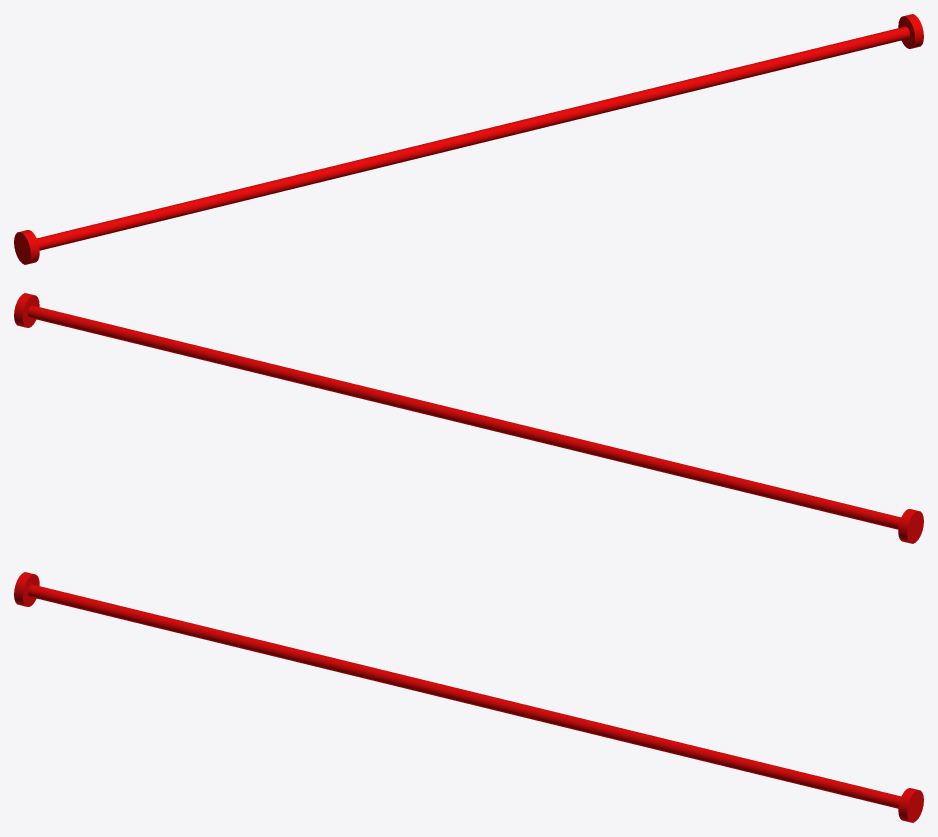
The picture shows the model from 3 angles, top to bottom: view 1: azimuth 30°, elevation 25°; view 2: azimuth 150°, elevation 25°; view 3: azimuth 330°, elevation 25°; orthographic projection.
Parts seen in each view (by area): view 1: pCylinder7; view 2: pCylinder7; view 3: pCylinder7.
Boxes of the visible parts, x1,y1,x2,y2 form: pCylinder7: [14, 14, 923, 264]; pCylinder7: [14, 293, 923, 543]; pCylinder7: [14, 572, 923, 822].
Bounding box in the file's own units: 242 × 7.94 × 7.94.
